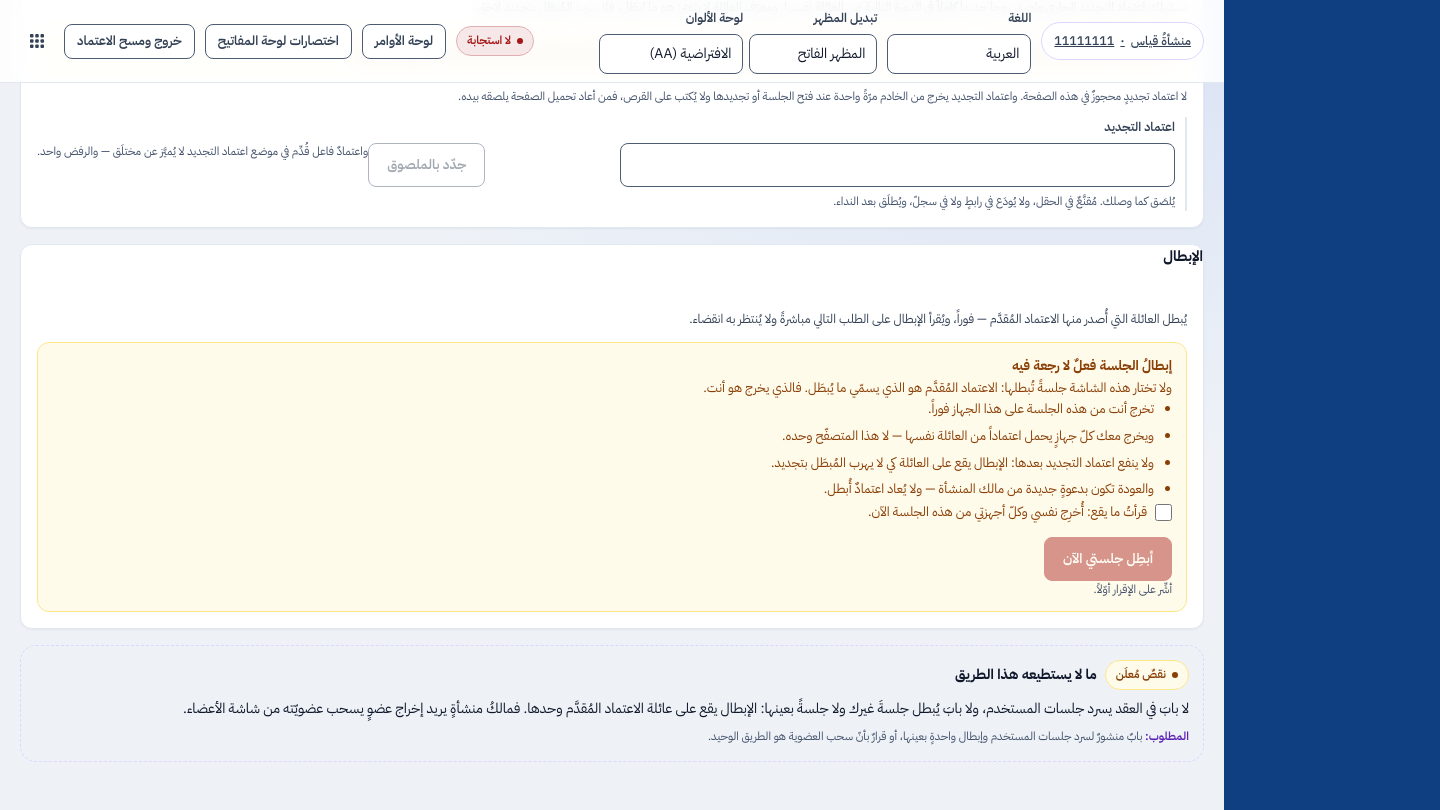
إبطال الجلسة › وبعد وقوعه يُمسح الاعتماد من الإعداد، ويُعرض سببُ الإبطال كما ورد
The image size is (1440, 810).
(page scrolled)
Click the checkbox with test id "admin-session-revoke-confirm-ack": [1164, 512] box top-left (1155, 504), bottom-right (1172, 521)
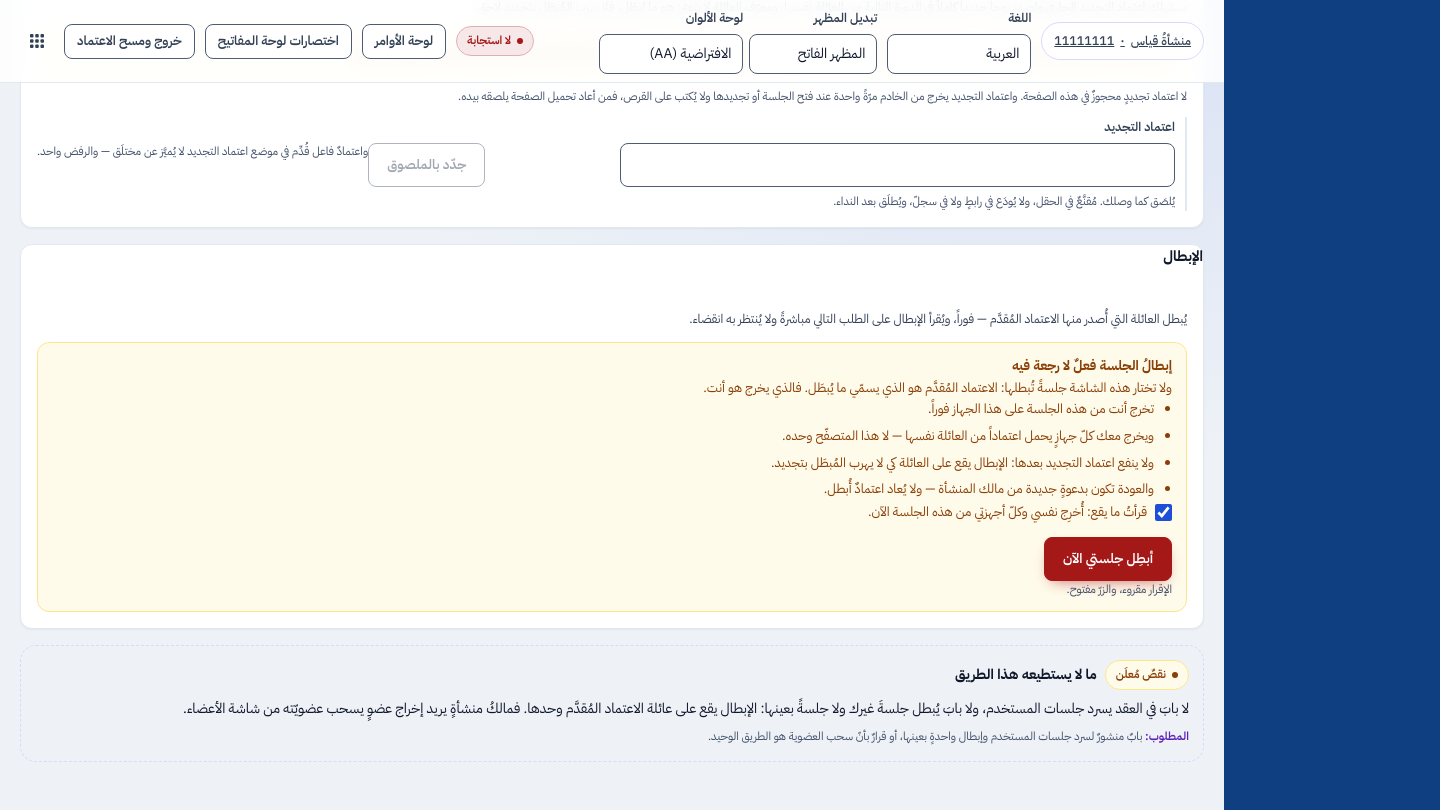
Click the button with test id "admin-session-revoke-confirm-go": [1108, 559] box top-left (1044, 538), bottom-right (1172, 581)
(page scrolled)
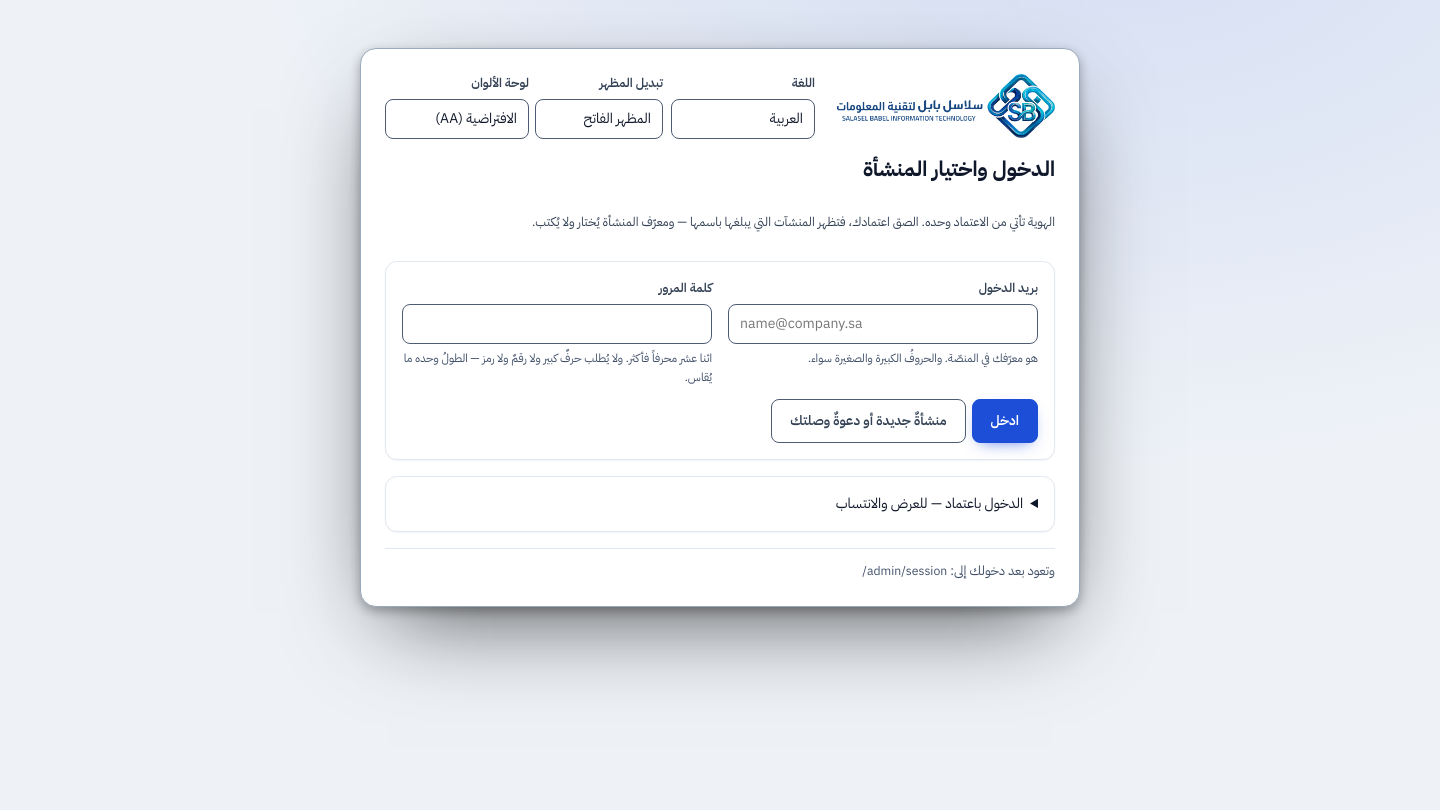
Result: the element with test id "session-gate" is shown
